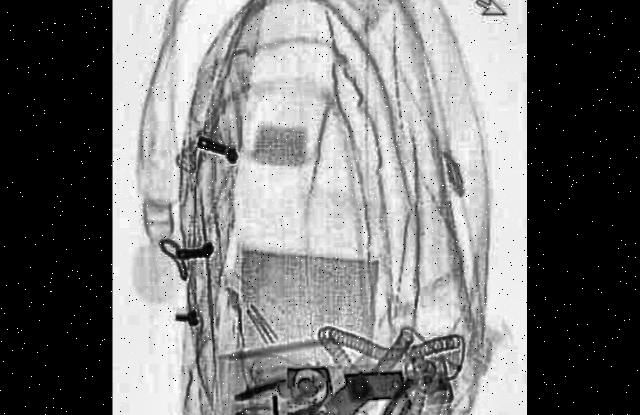Pliers: (337, 383, 416, 415)
